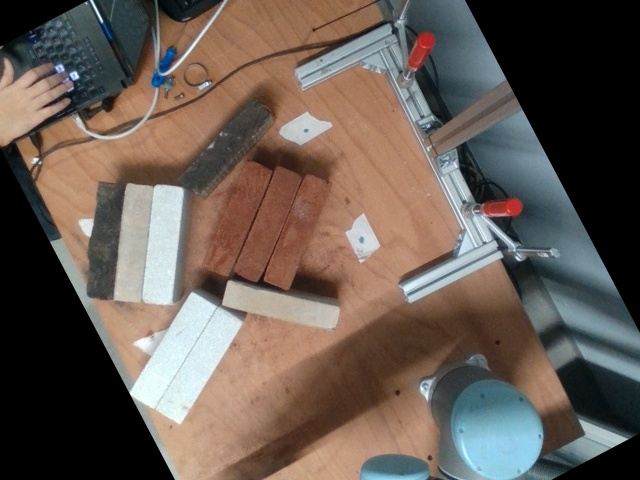brick-side: (132, 295, 212, 407), (159, 311, 238, 420), (180, 100, 268, 191), (266, 177, 327, 285), (237, 170, 298, 278), (208, 163, 269, 271), (224, 284, 335, 329), (144, 187, 179, 301), (115, 185, 150, 299), (88, 184, 121, 298)
